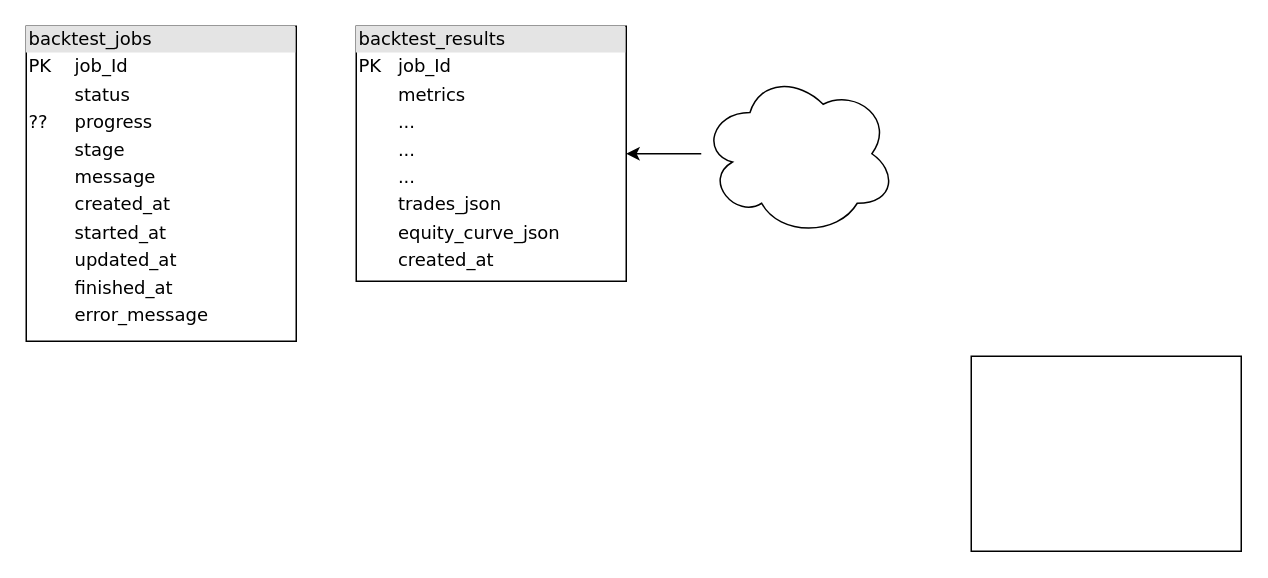
The diagram is 1268 pixels wide and 578 high, and some of its shapes have lost their labels. Here are the shapes that lost their labels. From the top down, the centre of each, then its label:
At (x=798, y=153): "might need bucket? large trades data?".
At (x=1105, y=453): "Tablename PK uniqueId FK1 foreignKey fieldname fieldname fieldname fieldname".
